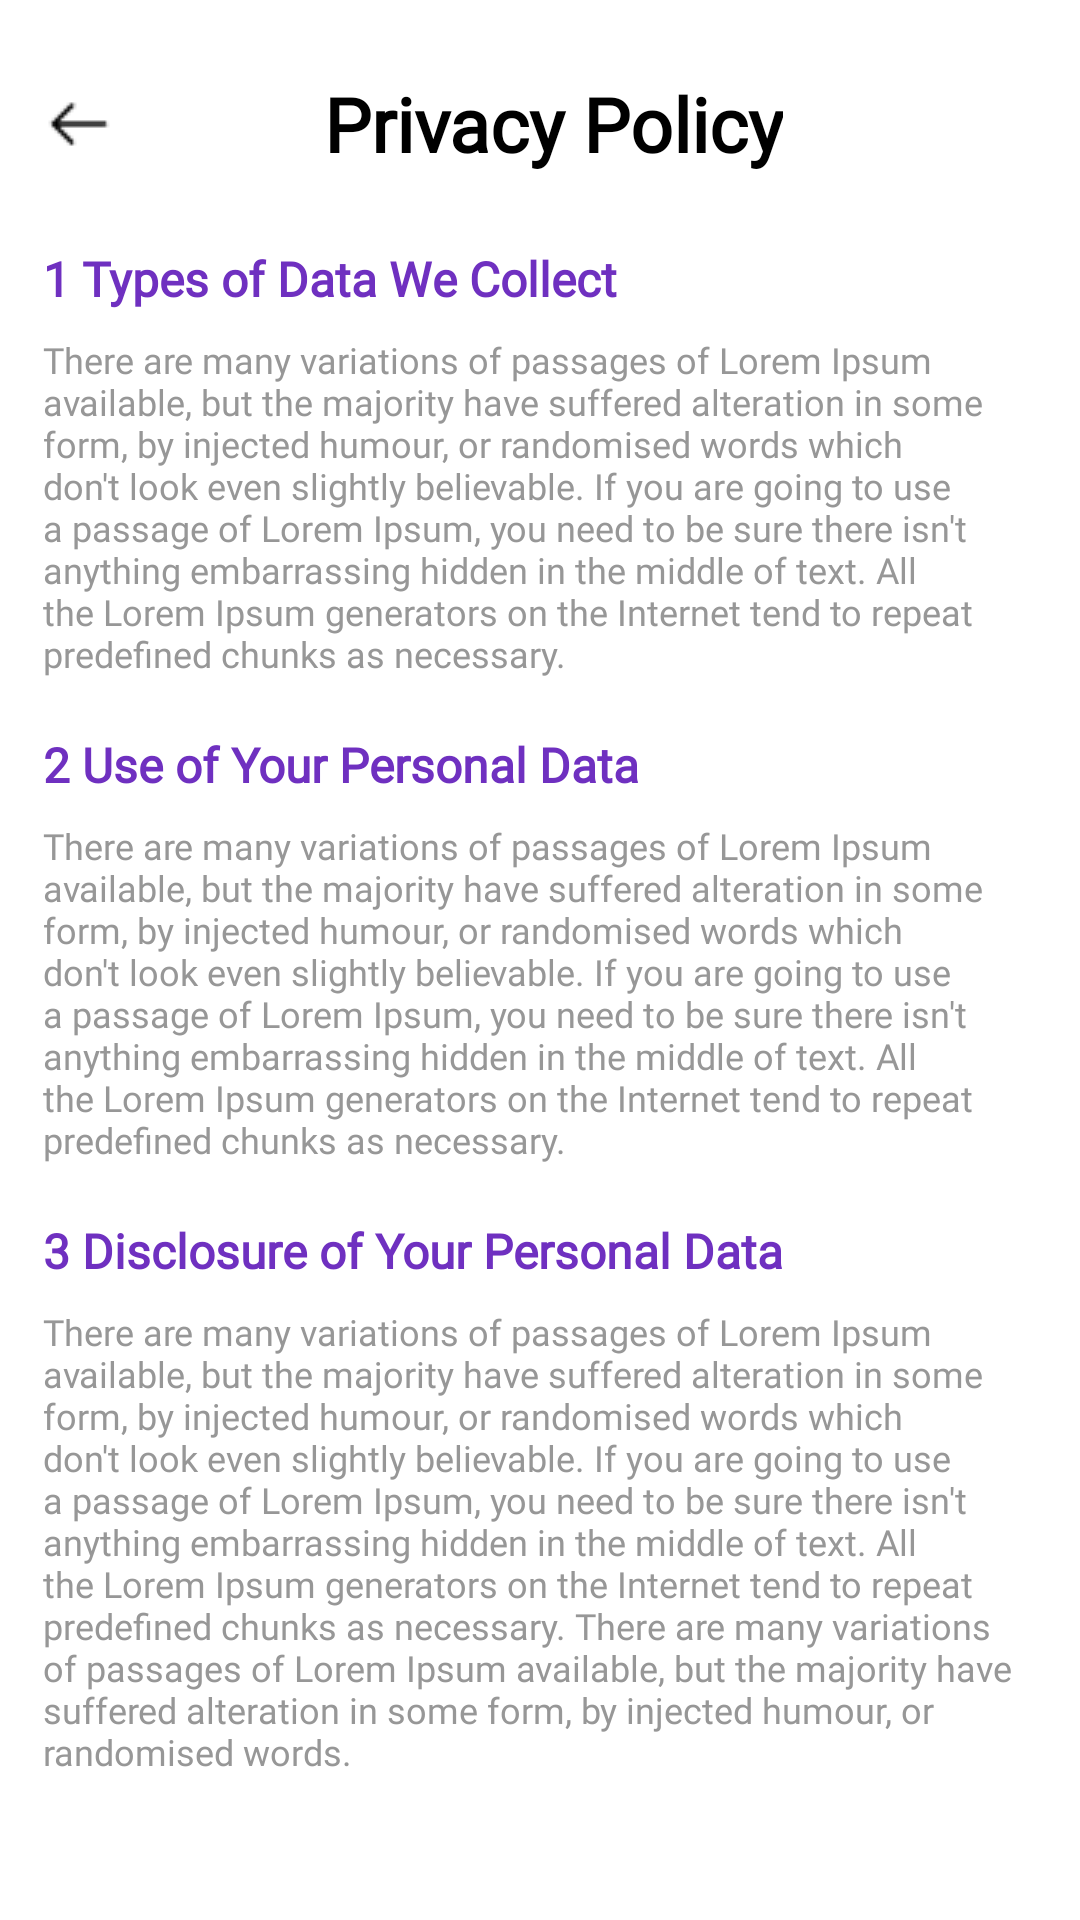

Screen size 1080×1920. Icon name, then its center in pixels as (x,y):
back arrow: (79,124)
